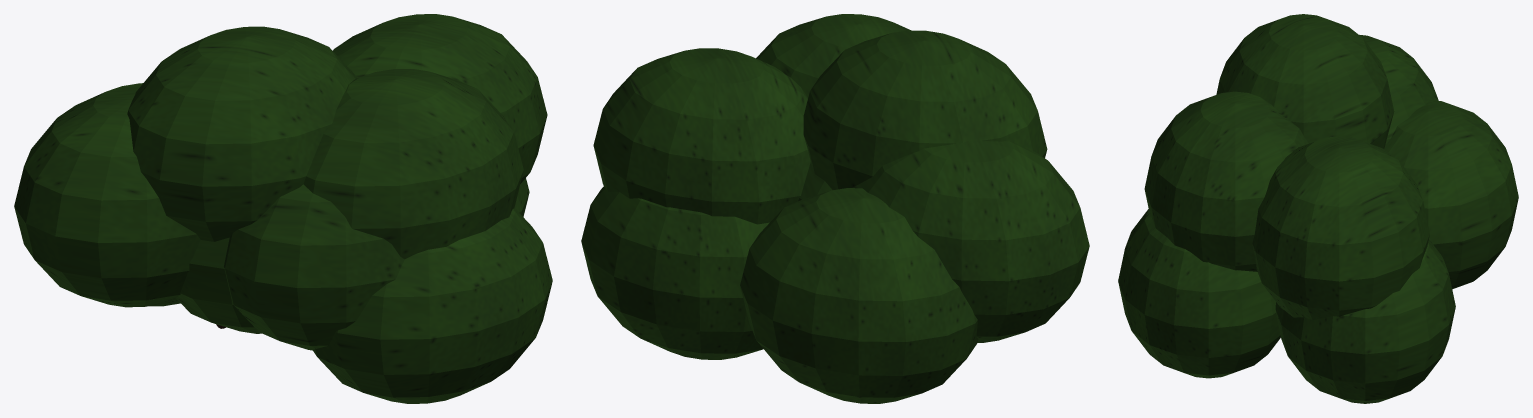
The model's file is PROP-CE1E7C480E20_lod0.glb.
3 views of the same model, side by side, from view 1: azimuth 30°, elevation 25°; view 2: azimuth 150°, elevation 25°; view 3: azimuth 270°, elevation 25° (orthographic). The views are drawn at different scales.
Parts seen in each view (by area): view 1: foliage.008; view 2: foliage.008; view 3: foliage.008.
Boxes of the visible parts, x1,y1,x2,y2 form: foliage.008: (14, 14, 552, 403); foliage.008: (581, 14, 1089, 403); foliage.008: (1118, 14, 1518, 403).
Bounding box in the file's own units: 1.29 × 0.8487 × 1.06.
Materials: 2 (2 with a texture image).
